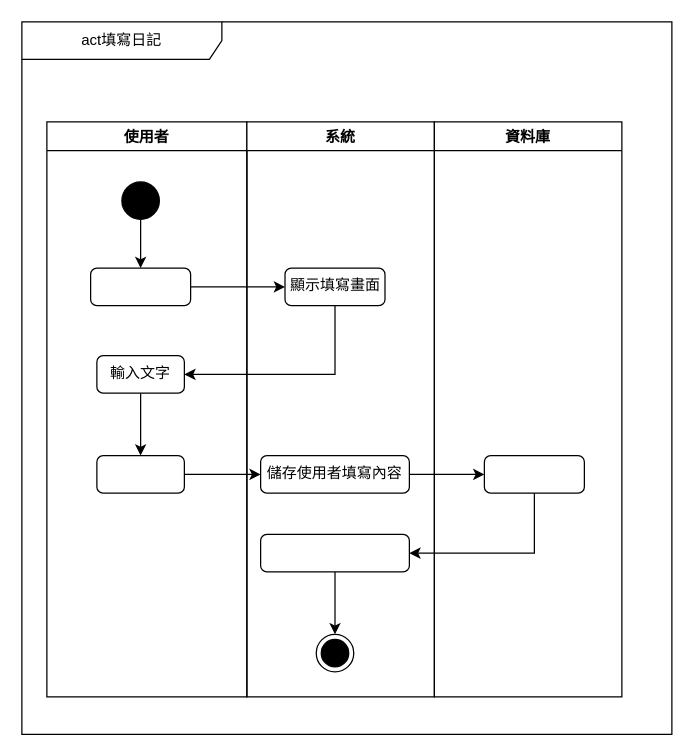
Image size: 694x756. Some labels were removed from this diagram. The shapes that lost their labels are listed below. From the top down, each one's centre as x and y in pixels, then its label:
At (x=140, y=286): "點擊心情日記".
At (x=140, y=473): "提交".
At (x=533, y=473): "儲存".
At (x=334, y=552): "顯示儲存成功".
